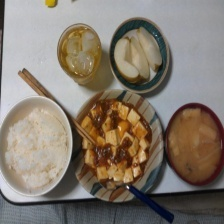dal: (164, 106, 224, 184)
